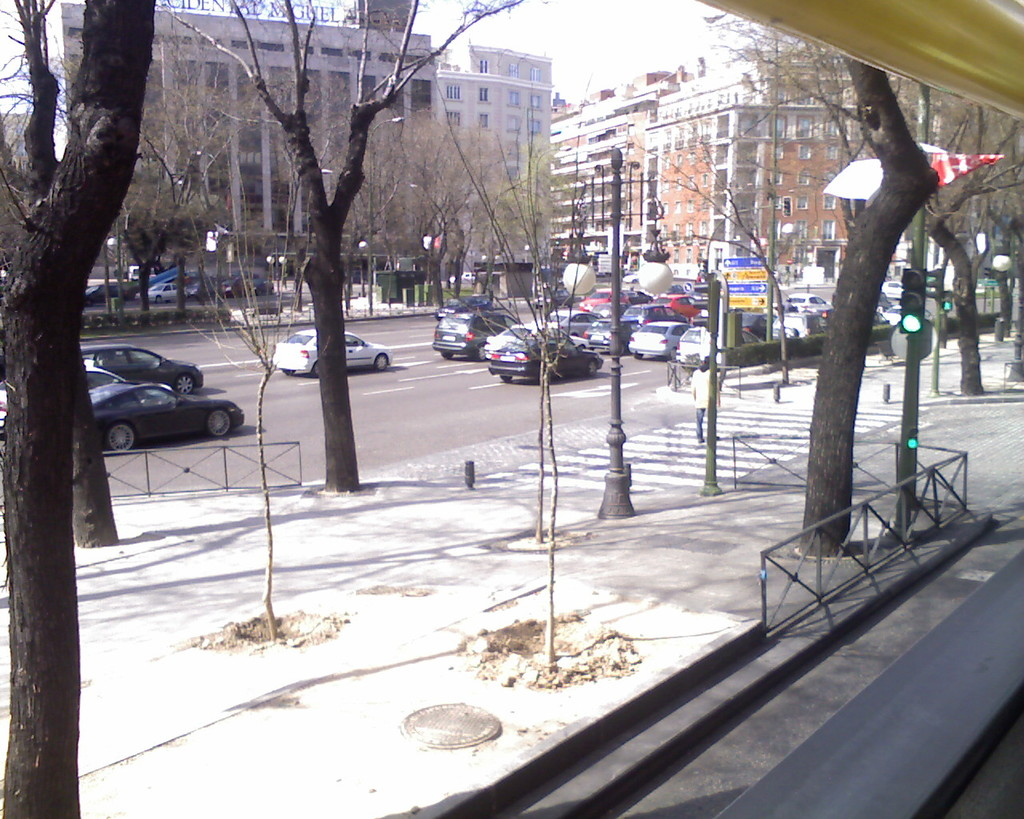Tree: (0, 0, 840, 323), (88, 0, 553, 492), (687, 11, 1022, 397), (0, 0, 156, 818), (596, 109, 803, 391), (396, 105, 507, 312)
